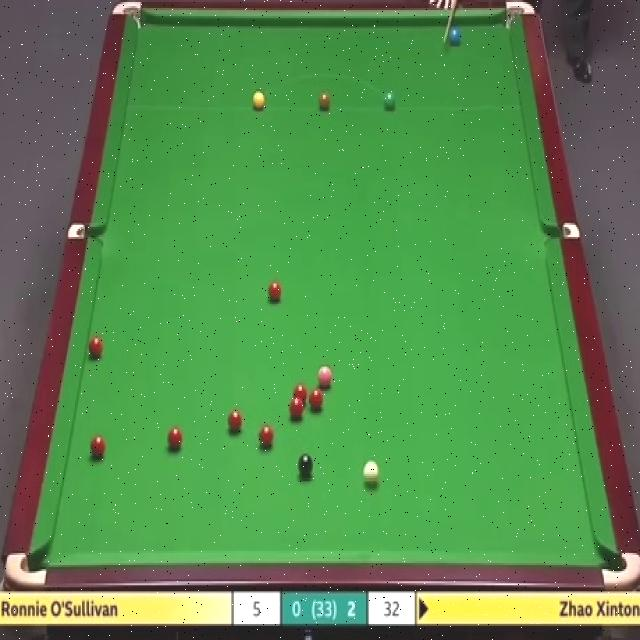black-ball: (298, 453, 314, 480)
blue-ball: (448, 23, 463, 47)
brown-ball: (318, 92, 331, 113)
green-ball: (383, 91, 397, 113)
pink-ball: (314, 365, 333, 390)
red-ball: (89, 434, 107, 462), (166, 426, 183, 451), (258, 424, 274, 450), (227, 407, 243, 433), (267, 279, 283, 304), (288, 398, 305, 421), (87, 335, 102, 360), (308, 388, 324, 410), (292, 384, 308, 404)
white-ball: (363, 458, 380, 486)
yellow-ball: (252, 90, 266, 112)
